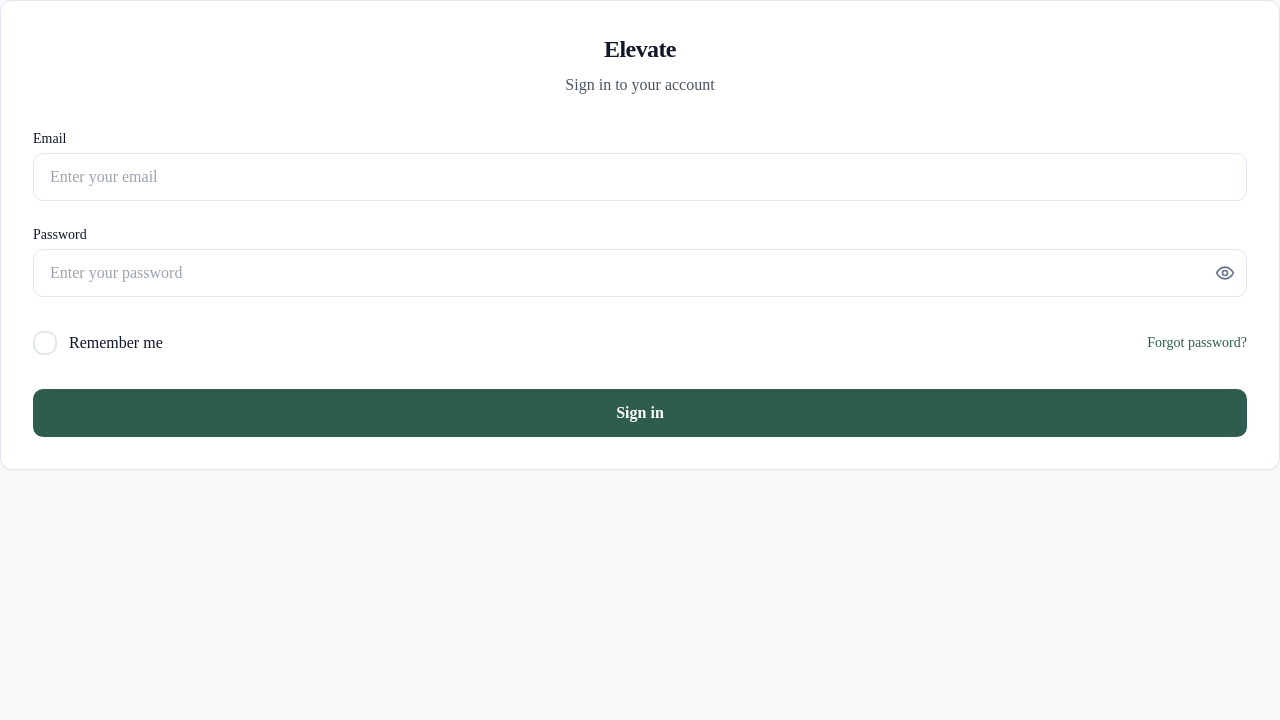
Scenario: LoginPage › form submission › shows error on invalid credentials
This screenshot has width=1280, height=720.
Type "test@example.com" into the field labelled "Email" at coordinates (640, 177), box [33,153,1247,201]
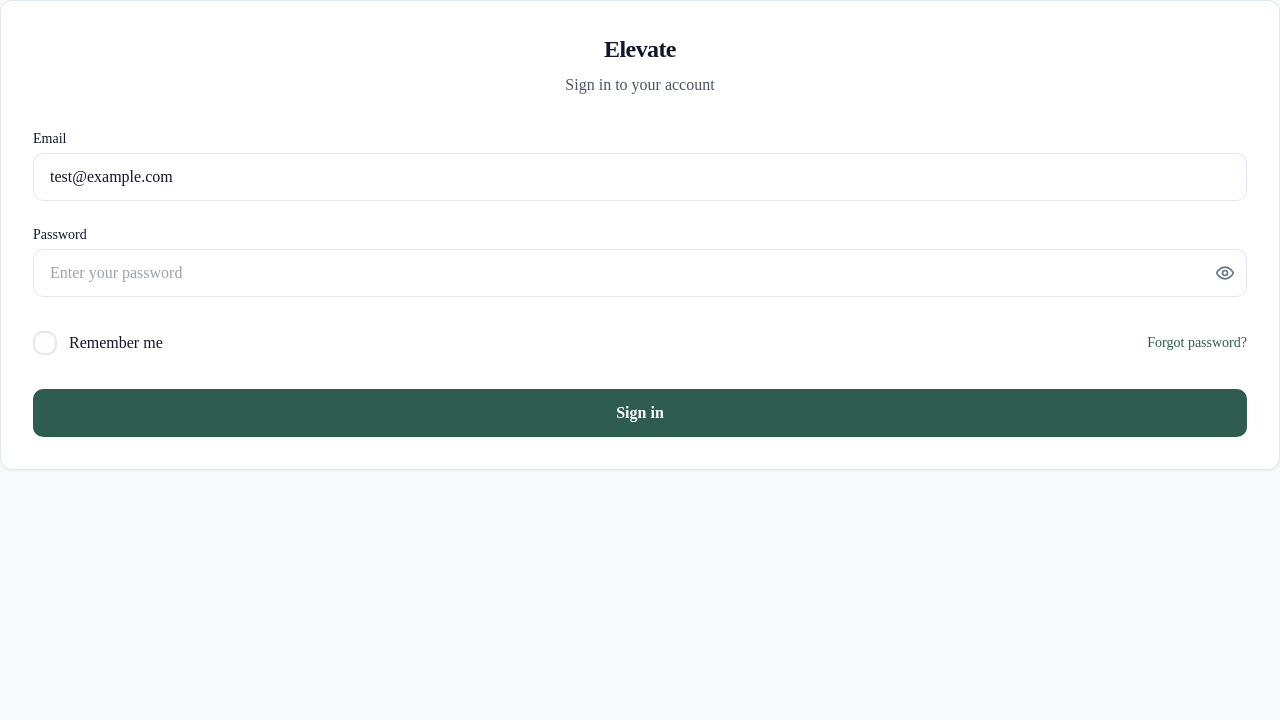
Type "wrongpassword" into the password field labelled "Password" at coordinates (640, 273), box [33,249,1247,297]
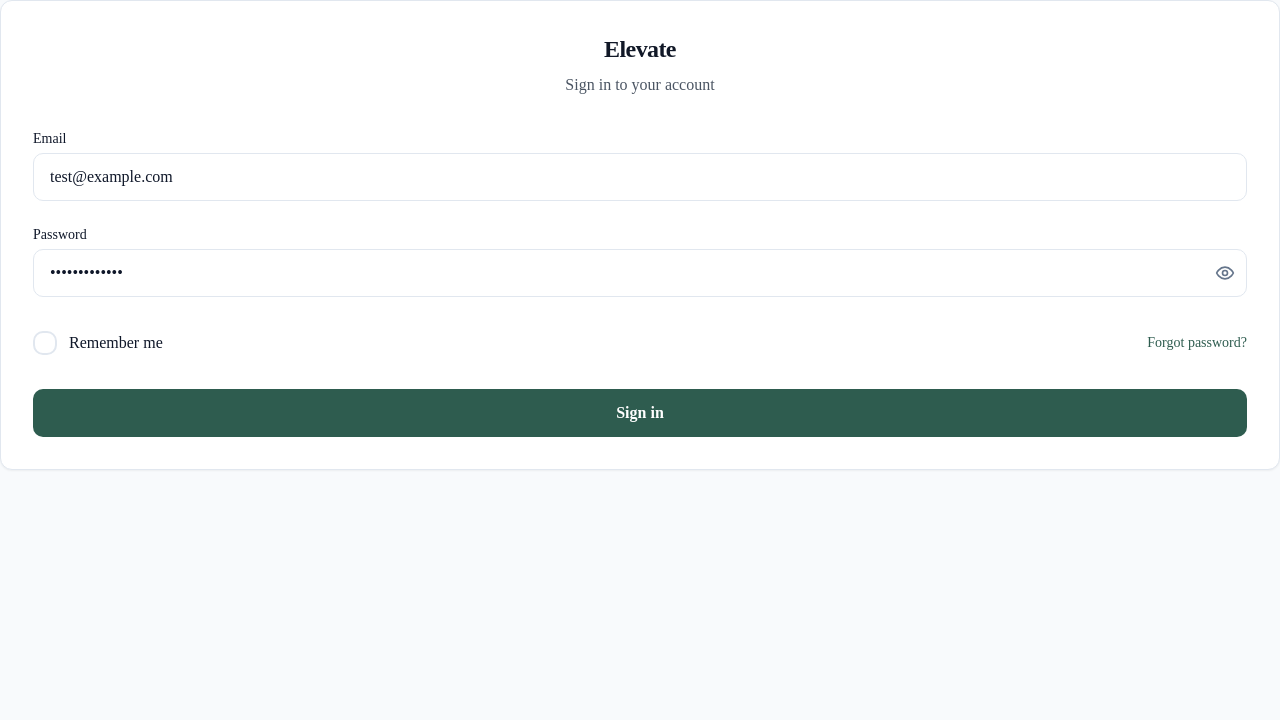
Click the button "Sign in" at coordinates (640, 413), box [33,389,1247,437]
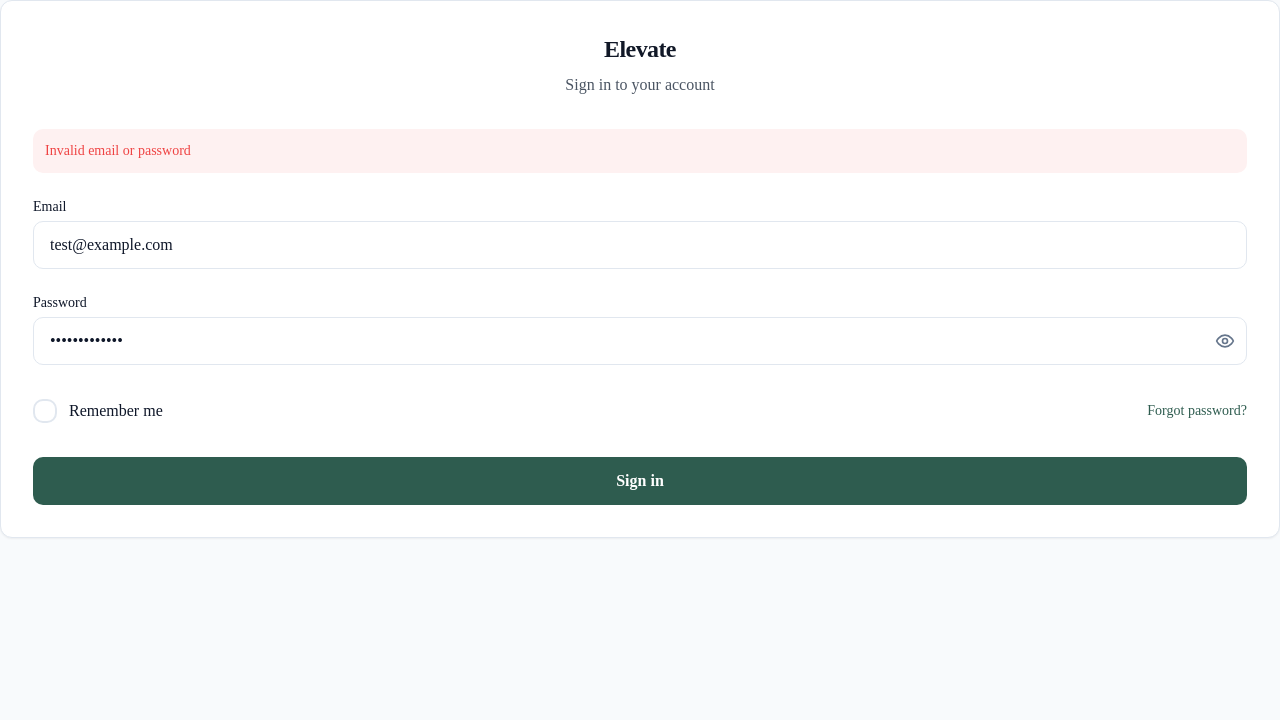
Expected: the text "Invalid email or password" is shown, [33,129,1247,173]
